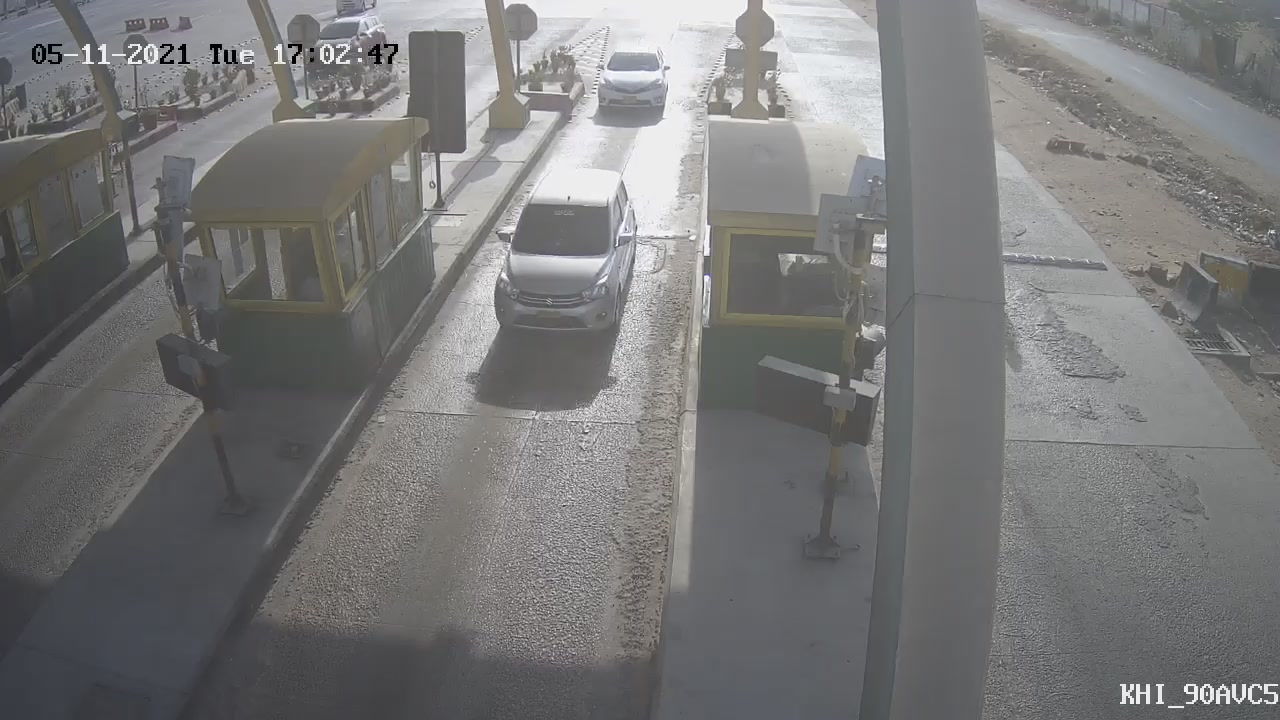F1: (468, 149, 657, 361), (577, 33, 690, 133)
